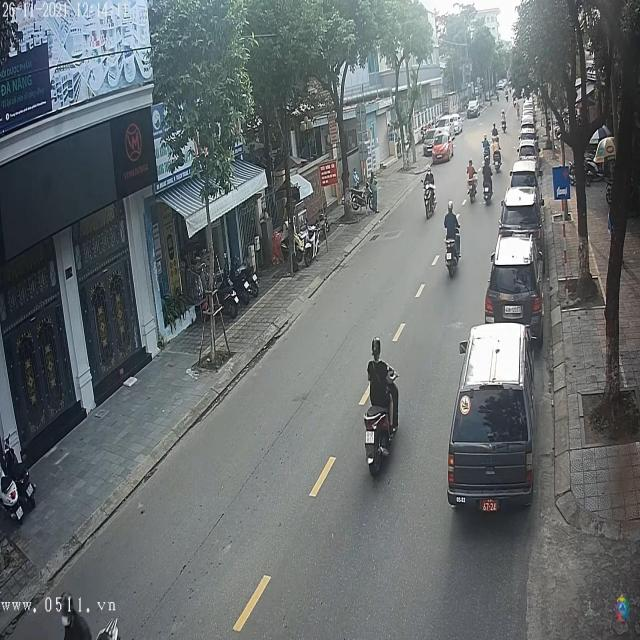car: (450, 325, 535, 510), (485, 246, 542, 336), (499, 188, 542, 237), (516, 136, 538, 158), (468, 99, 482, 118)
motorcycle: (363, 379, 400, 474), (444, 236, 461, 278), (422, 188, 436, 218), (482, 175, 492, 207)
